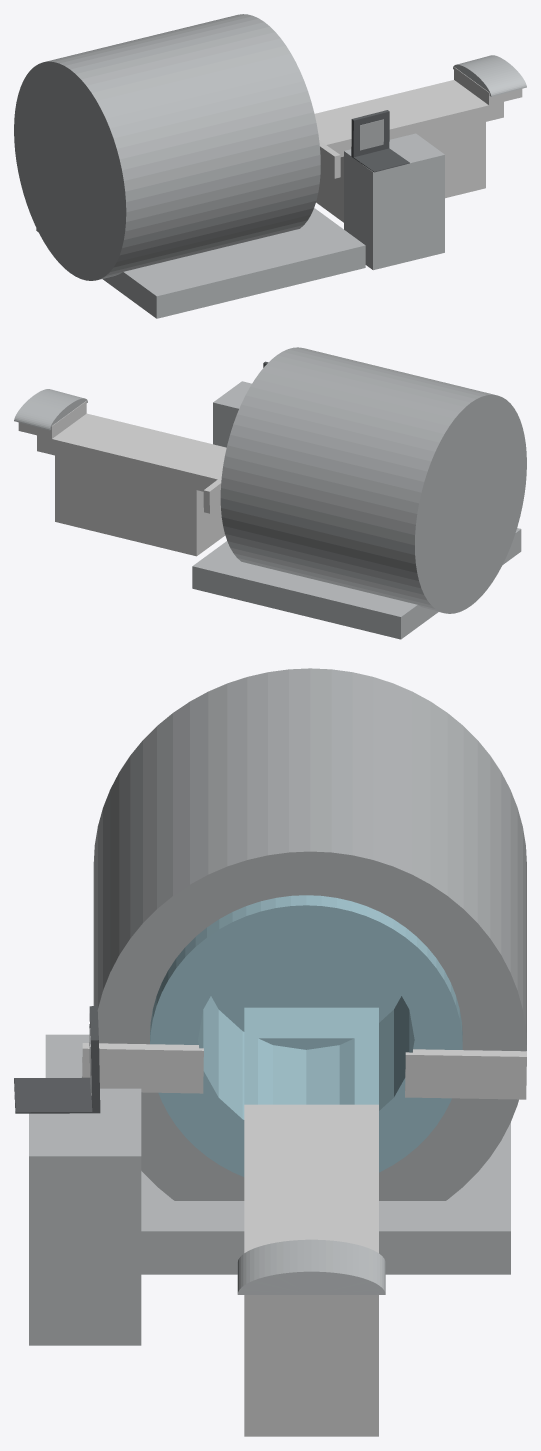
File: MRI_scan.gltf
The picture shows the model from 3 angles, top to bottom: view 1: azimuth 30°, elevation 25°; view 2: azimuth 150°, elevation 25°; view 3: azimuth 270°, elevation 25°; orthographic projection. The views are drawn at different scales.
Visible parts, largest first — view 1: Mesh_Mesh_head_geo.001_lambert2SG.001; view 2: Mesh_Mesh_head_geo.001_lambert2SG.001; view 3: Mesh_Mesh_head_geo.001_lambert2SG.001.
Part boxes in pixels (x1=…): Mesh_Mesh_head_geo.001_lambert2SG.001: x1=14, y1=14, x2=526, y2=318; Mesh_Mesh_head_geo.001_lambert2SG.001: x1=14, y1=347, x2=526, y2=639; Mesh_Mesh_head_geo.001_lambert2SG.001: x1=14, y1=668, x2=526, y2=1436.
Bounding box in the file's own units: 145 × 64.39 × 76.22.
